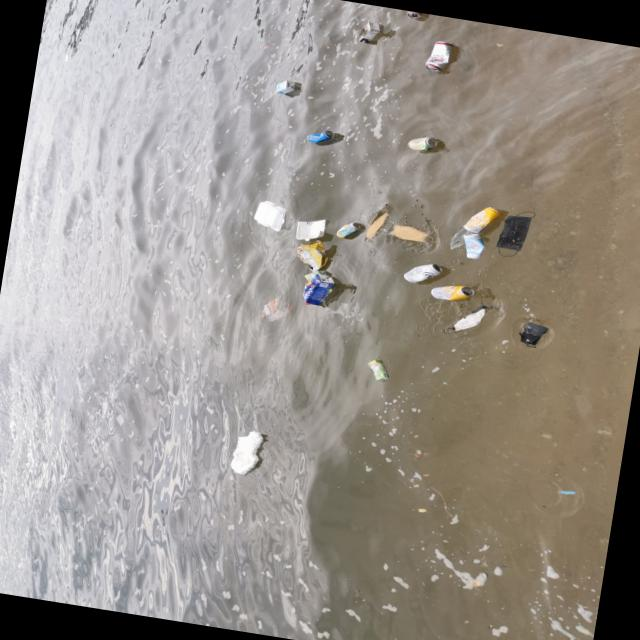can: (422, 36, 458, 74), (464, 202, 502, 235), (401, 258, 444, 286), (429, 280, 475, 304), (406, 132, 442, 155), (461, 232, 487, 260), (337, 219, 362, 240), (308, 128, 336, 144), (402, 10, 425, 20)
foam: (229, 428, 266, 477), (254, 198, 288, 230), (295, 215, 328, 242)
plastic bottle: (290, 235, 335, 273), (258, 294, 296, 324)
unknow: (494, 207, 539, 260), (440, 296, 491, 341), (301, 272, 337, 308), (514, 317, 546, 351), (384, 220, 429, 242), (362, 207, 389, 242), (364, 356, 391, 381), (357, 21, 382, 44), (301, 266, 325, 286), (276, 80, 298, 94)
